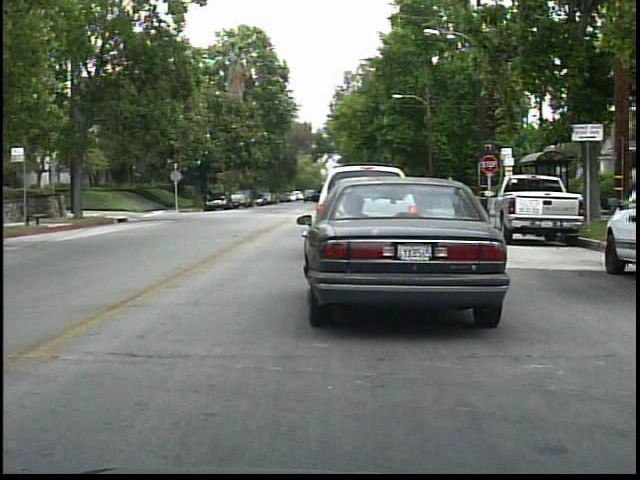person: (218, 180, 233, 206)
